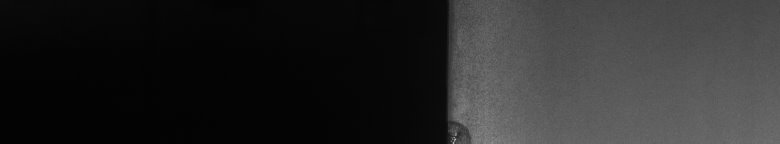hb: (456, 112, 476, 136)
